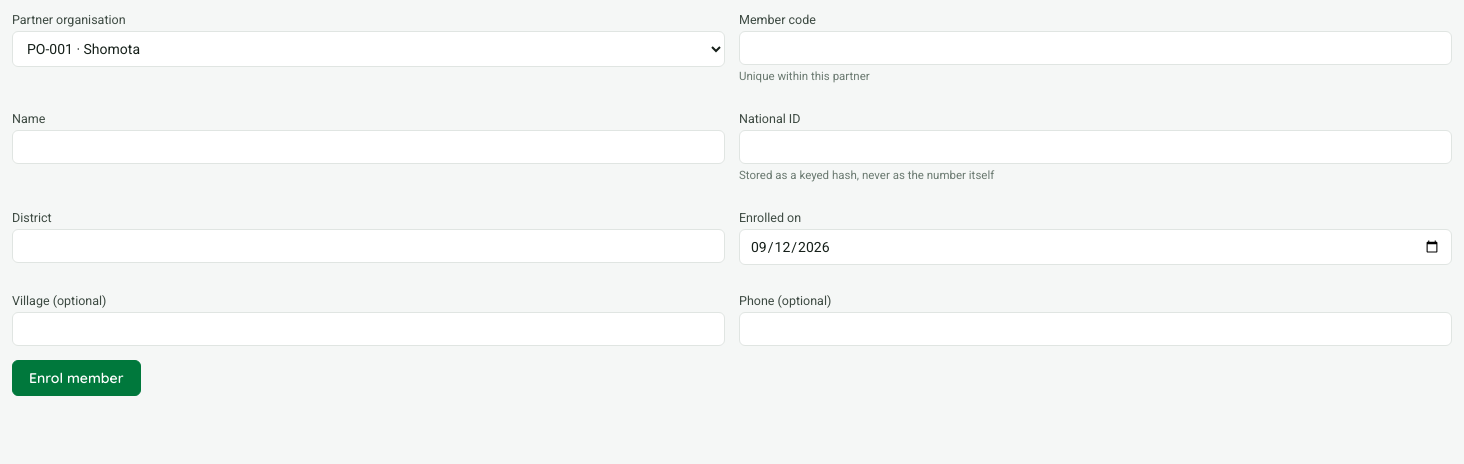
Test: EnrolMemberForm › does not report success when the server refused
The width and height of the screenshot is (1464, 464).
Select "PO-001 · Shomota" in the dropdown labelled "Partner organisation" at (368, 49), box [12,31,725,67]
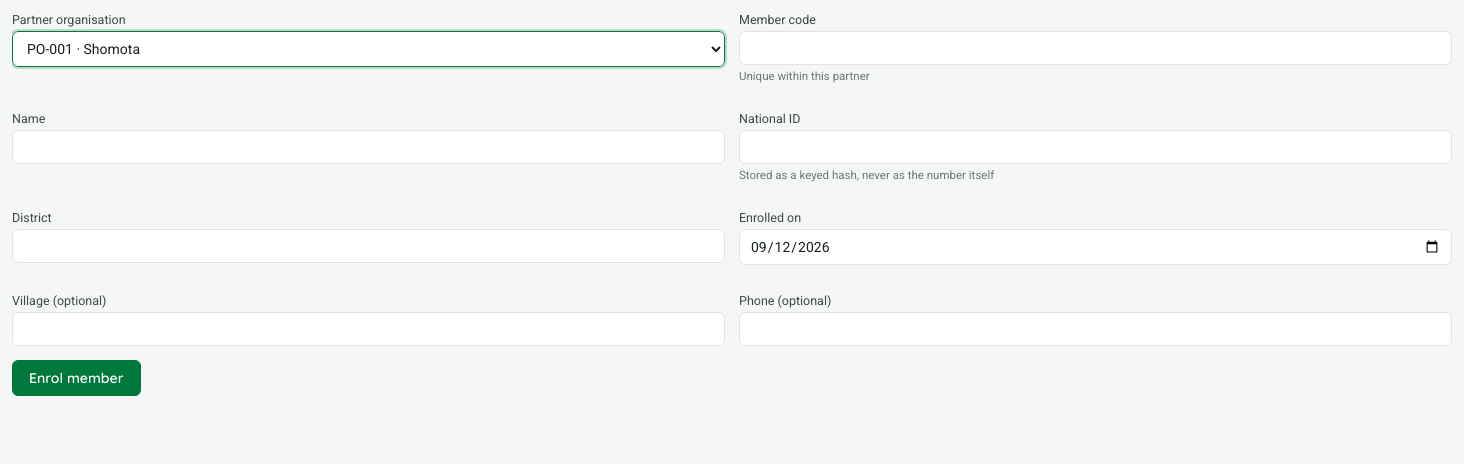
Type "M-0001" into the field labelled "Member code".
click(1096, 48); type("M-0001")  # box [739,31,1452,65]
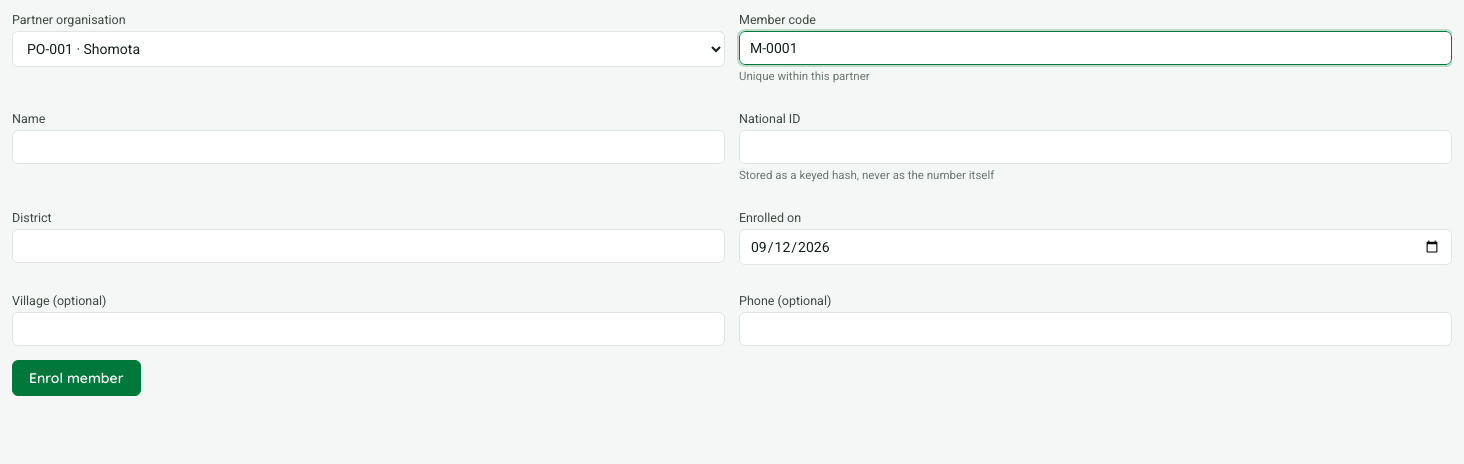
Type "Rahima Begum" into the field labelled "Name".
click(368, 147); type("Rahima Begum")  # box [12,130,725,164]
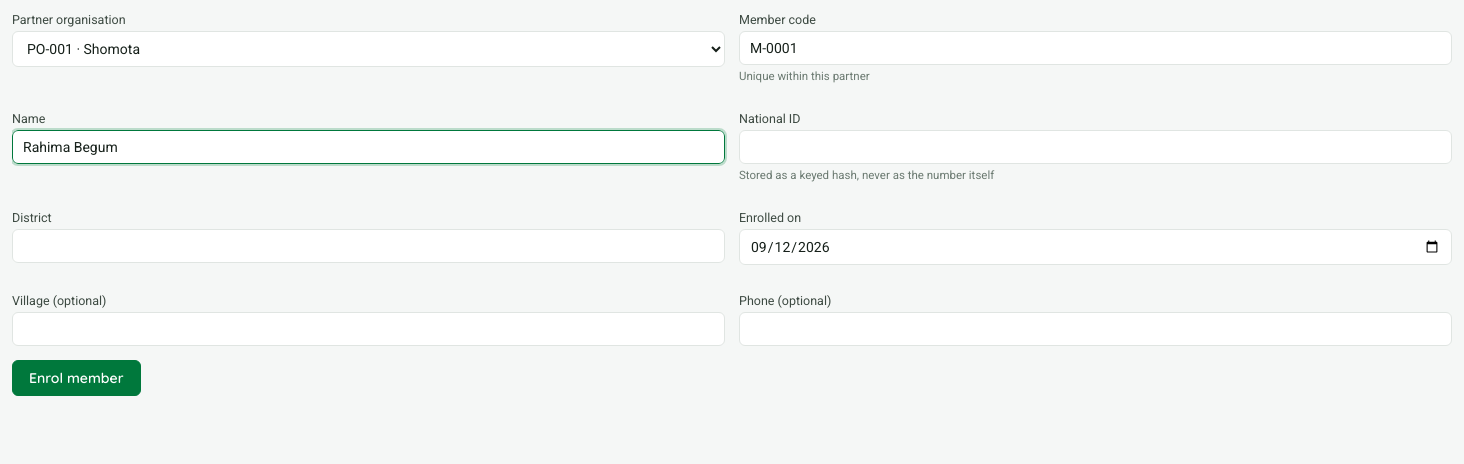
Type "1990123456789" into the field labelled "National ID".
click(1096, 147); type("1990123456789")  # box [739,130,1452,164]
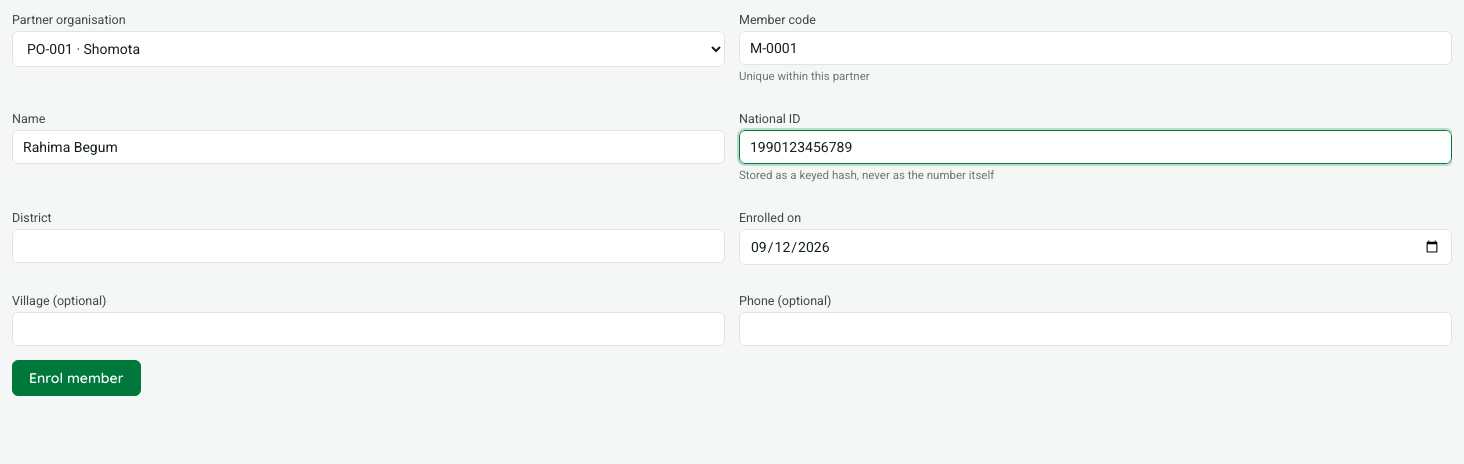
Type "Rangpur" into the field labelled "District".
click(368, 246); type("Rangpur")  # box [12,229,725,263]
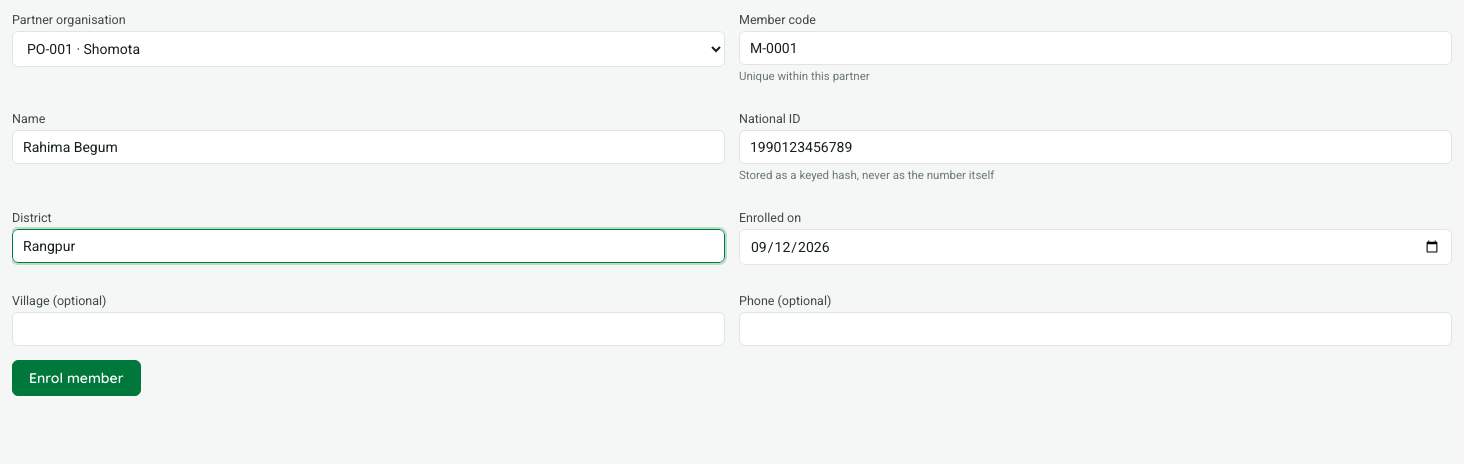
Click the button "Enrol member".
click(76, 378)  # box [12,360,140,396]
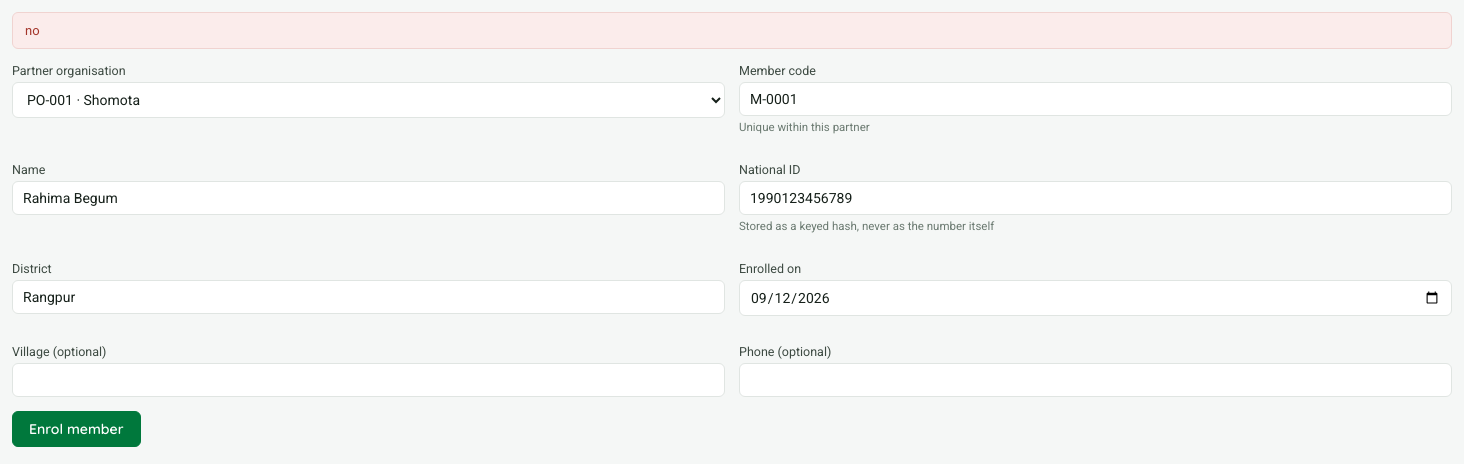
expect the message "no" is shown: met, box [12,12,1452,49]
